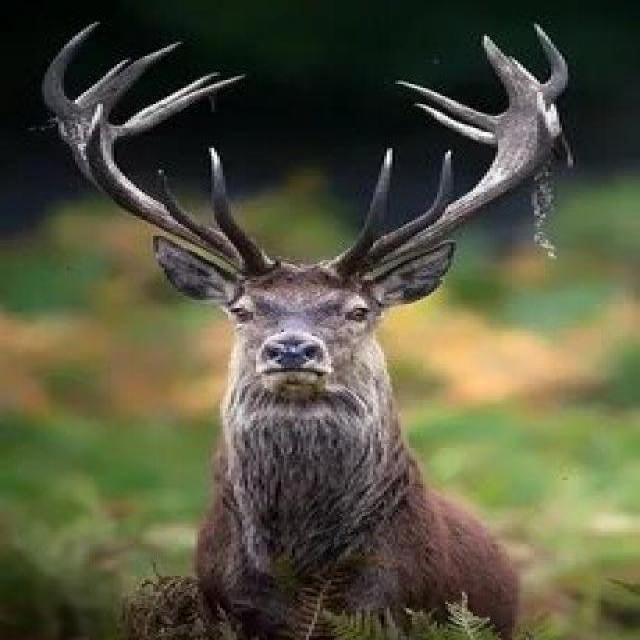deer: (77, 145, 632, 612)
